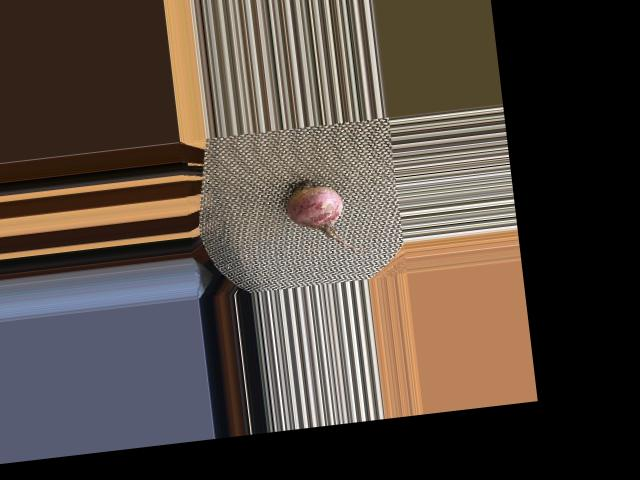beet: (282, 172, 373, 261)
